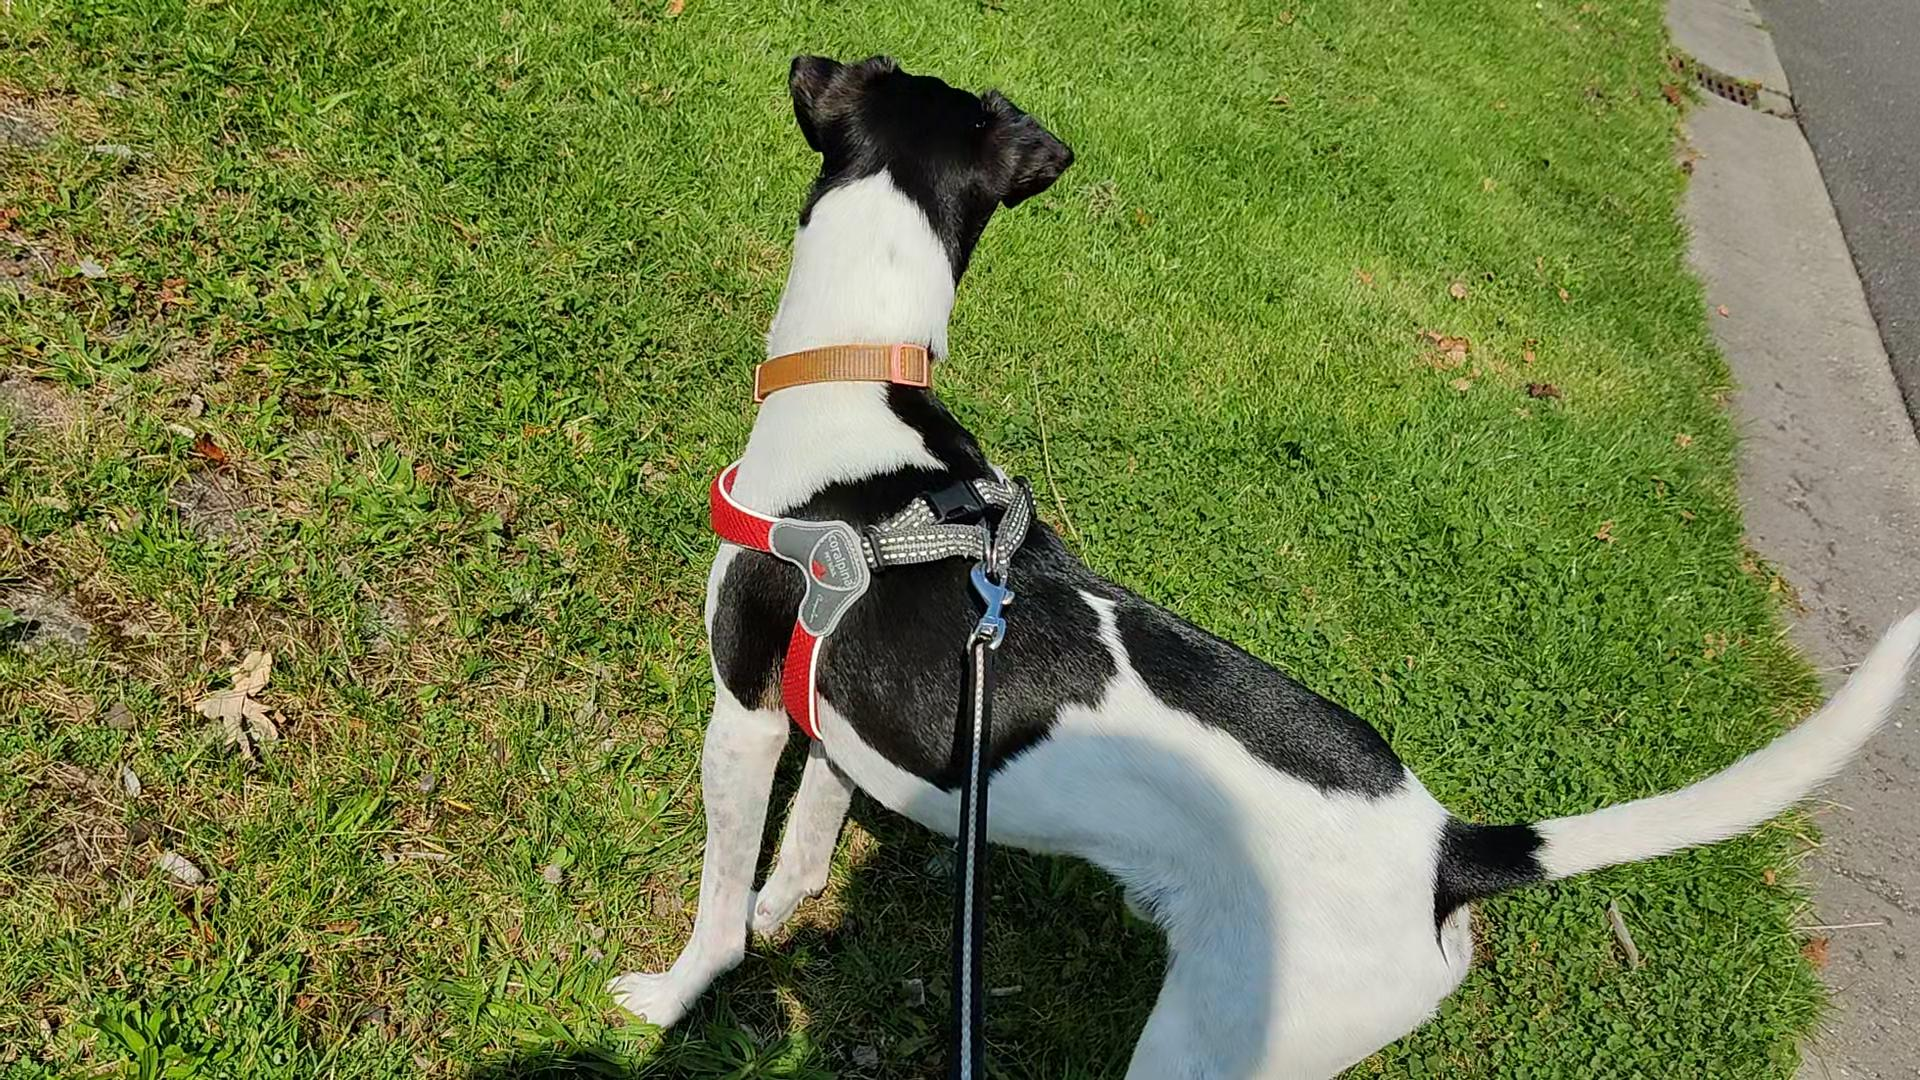Dog: (600, 46, 1919, 1079)
